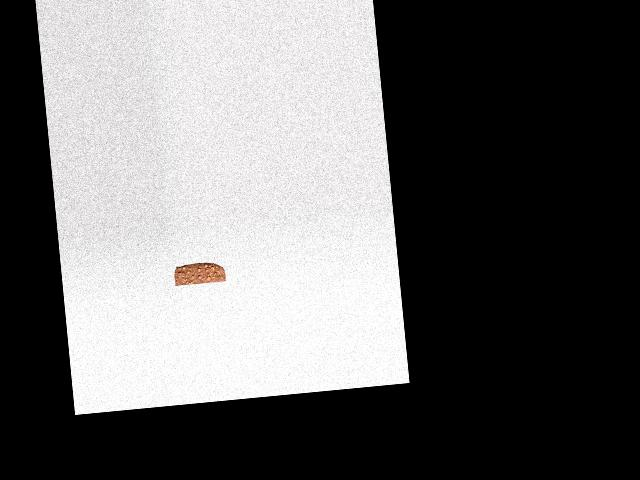chocolate: (173, 257, 226, 288)
